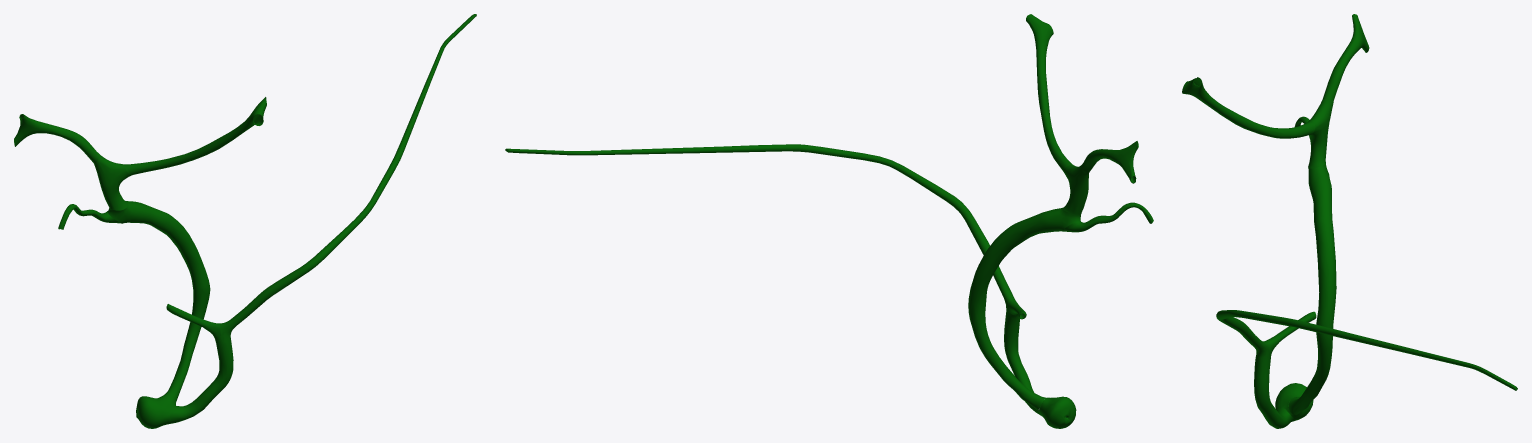
File: biliary.glb
The picture shows the model from 3 angles, left to right: view 1: azimuth 30°, elevation 25°; view 2: azimuth 150°, elevation 25°; view 3: azimuth 270°, elevation 25°; orthographic projection. The views are drawn at different scales.
Parts seen in each view (by area): view 1: VH_M_dorsal_pancreatic_duct; view 2: VH_M_dorsal_pancreatic_duct; view 3: VH_M_dorsal_pancreatic_duct.
Boxes of the visible parts, x1,y1,x2,y2 form: VH_M_dorsal_pancreatic_duct: (14, 14, 476, 428); VH_M_dorsal_pancreatic_duct: (505, 14, 1153, 428); VH_M_dorsal_pancreatic_duct: (1182, 14, 1517, 428).
Size of the model in its own units: 0.1334 by 0.0826 by 0.0661.
